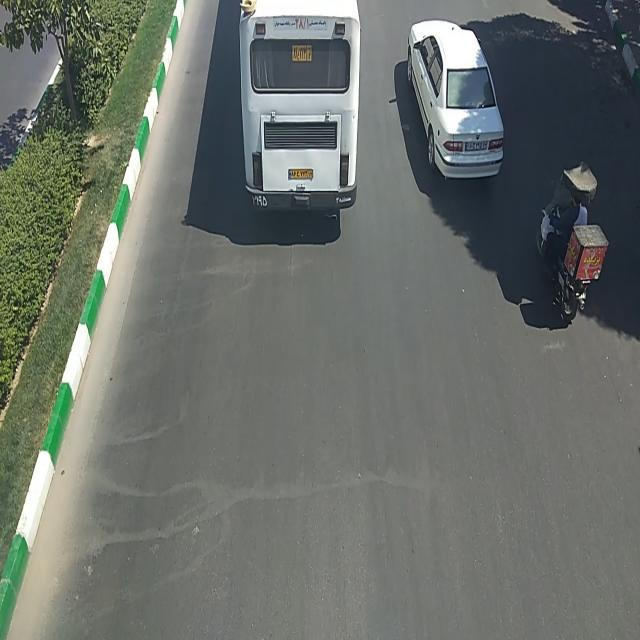bus: (238, 2, 364, 226)
car: (406, 18, 506, 199)
motorbike: (536, 162, 605, 332)
